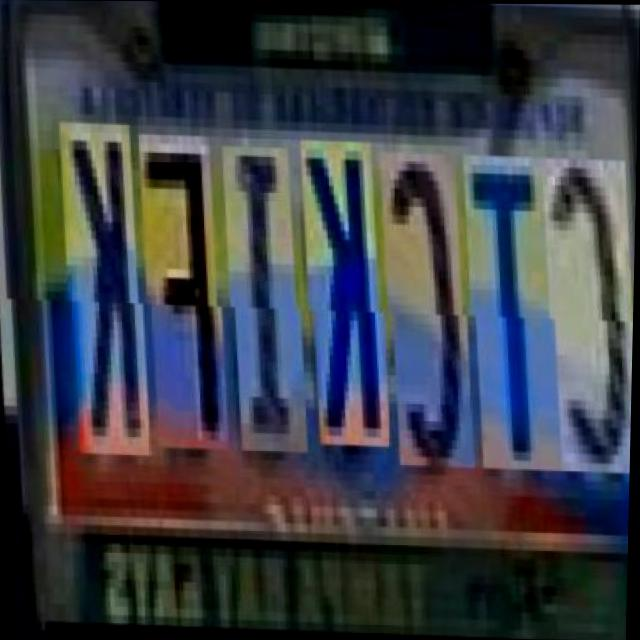c: (534, 157, 637, 472), (371, 153, 470, 469)
f: (131, 136, 225, 452)
i: (214, 148, 304, 454)
k: (50, 126, 146, 459), (293, 142, 386, 448)
t: (455, 155, 558, 471)
